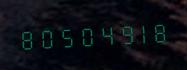eight: (17, 24, 35, 53), (150, 17, 168, 46)
five: (55, 22, 73, 51)
four: (93, 20, 111, 49)
nine: (112, 19, 130, 48)
one: (131, 18, 149, 47)
zero: (36, 23, 54, 52), (74, 21, 92, 50)
